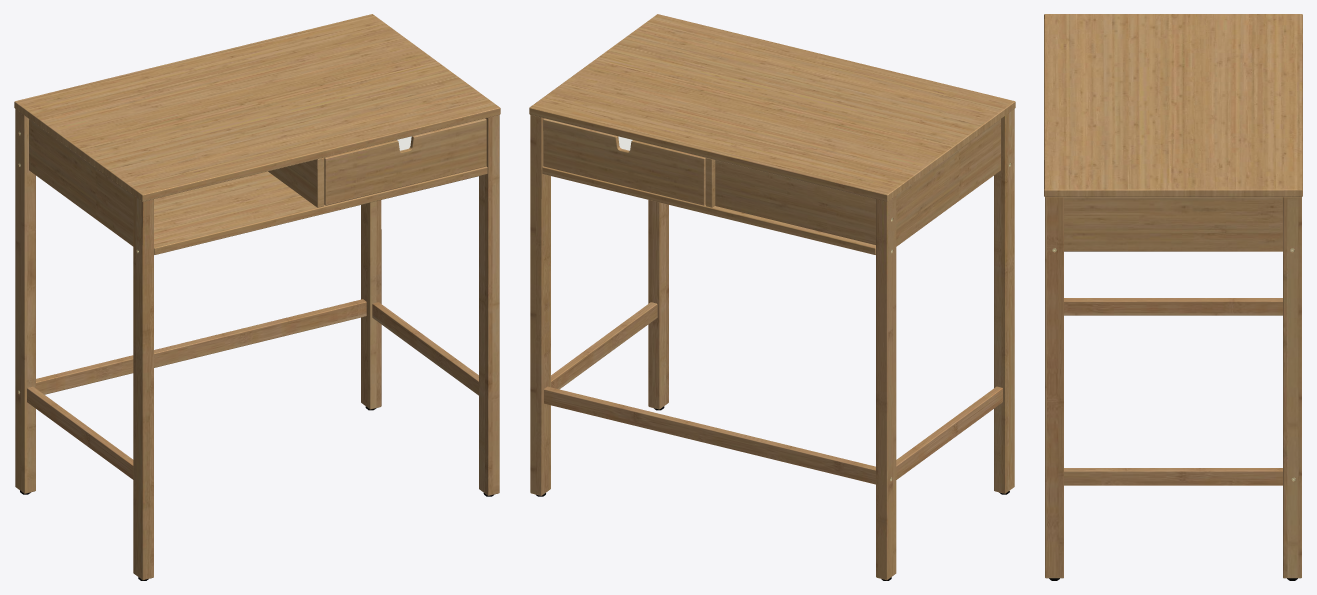
3 views of the same model, side by side, from view 1: azimuth 30°, elevation 25°; view 2: azimuth 150°, elevation 25°; view 3: azimuth 270°, elevation 25° (orthographic).
Parts seen in each view (by area): view 1: model; view 2: model; view 3: model.
Boxes of the visible parts, left/top/right/bottom form: model: left=14, top=14, right=500, bottom=580; model: left=529, top=14, right=1015, bottom=580; model: left=1044, top=14, right=1302, bottom=580.
Bounding box in the file's own units: 0.763 × 0.792 × 0.473.
1 material, 1 textured.
